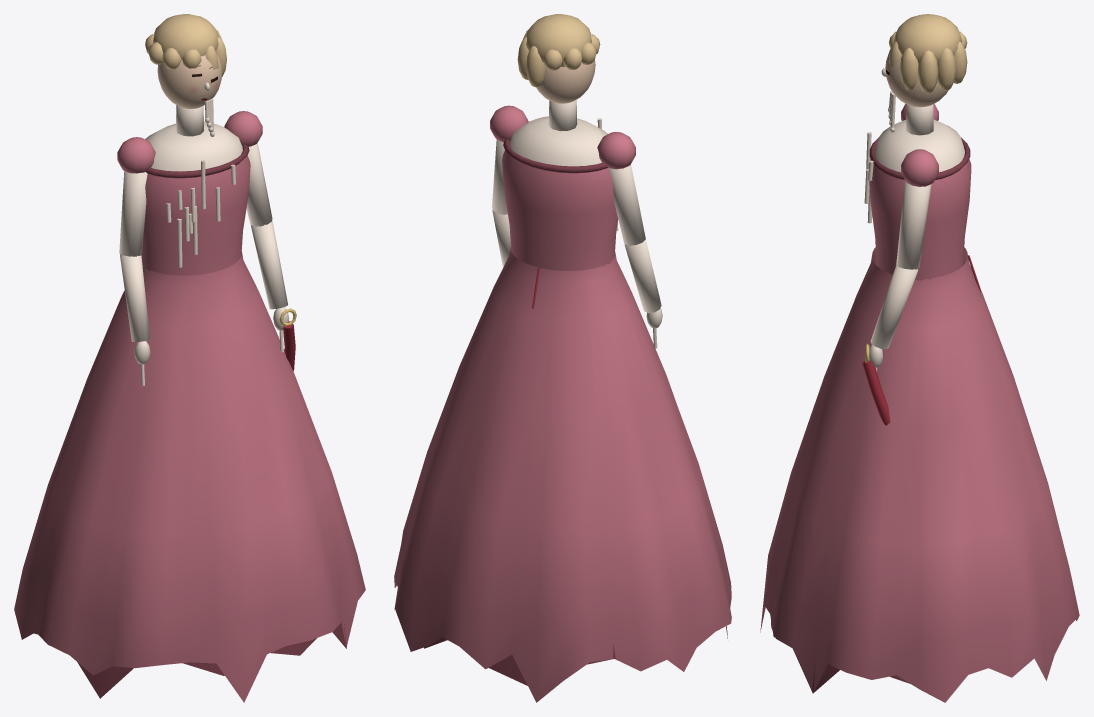
Rendered from the_exhibit.glb.
The picture shows the model from 3 angles, left to right: view 1: azimuth 30°, elevation 25°; view 2: azimuth 150°, elevation 25°; view 3: azimuth 270°, elevation 25°; orthographic projection.
Visible parts, largest first — view 1: Exhibit_Root_RoseSatin, Exhibit_Root_FleshWax, ArmA_FleshWax, ArmB_FleshWax, Head_WaxCurls, Exhibit_Root_RoseShadow, Face, PuffArmA, Head_FleshWax, PuffArmB; view 2: Exhibit_Root_RoseSatin, Head_WaxCurls, ArmA_FleshWax, Exhibit_Root_FleshWax, Face, Exhibit_Root_RoseShadow, ArmB_FleshWax, PuffArmA, PuffArmB, Head_FleshWax; view 3: Exhibit_Root_RoseSatin, Head_WaxCurls, ArmB_FleshWax, Exhibit_Root_FleshWax, Face, PuffArmB, Exhibit_Root_RoseShadow, Head_FleshWax, Rope.
Boxes of the visible parts, x1,y1,x2,y2 form: Exhibit_Root_RoseSatin: (14, 155, 365, 702); Exhibit_Root_FleshWax: (145, 121, 242, 267); ArmA_FleshWax: (119, 171, 150, 385); ArmB_FleshWax: (246, 143, 289, 352); Head_WaxCurls: (145, 14, 226, 76); Exhibit_Root_RoseShadow: (77, 144, 346, 698); Face: (157, 54, 222, 108); PuffArmA: (117, 137, 155, 173); Head_FleshWax: (176, 82, 214, 136); PuffArmB: (224, 111, 262, 146); Exhibit_Root_RoseSatin: (394, 150, 731, 702); Head_WaxCurls: (517, 14, 600, 87); ArmA_FleshWax: (608, 164, 662, 348); Exhibit_Root_FleshWax: (509, 116, 618, 231); Face: (536, 60, 595, 103); Exhibit_Root_RoseShadow: (424, 139, 727, 685); ArmB_FleshWax: (492, 139, 510, 267); PuffArmA: (597, 132, 635, 169); PuffArmB: (490, 105, 528, 142); Head_FleshWax: (548, 99, 577, 131); Exhibit_Root_RoseSatin: (760, 159, 1079, 702); Head_WaxCurls: (888, 14, 967, 93); ArmB_FleshWax: (869, 180, 931, 371); Exhibit_Root_FleshWax: (864, 119, 964, 223); Face: (885, 48, 948, 107); PuffArmB: (901, 149, 938, 186); Exhibit_Root_RoseShadow: (770, 137, 970, 693); Head_FleshWax: (881, 68, 933, 135); Rope: (862, 360, 890, 425).
Size of the model in its own units: 0.8987 by 1.72 by 0.7909.
9 materials, 1 textured.
